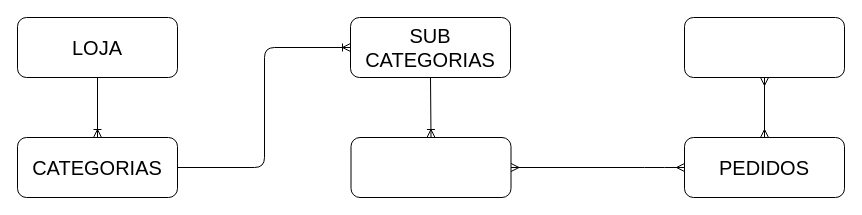
This 862x215 diagram has some shape labels left out. Here are the shapes that lost their labels. From the top down, the centre of each, then its label:
At point (764, 47): "CLIENTES".
At point (430, 167): "PRODUTOS".
